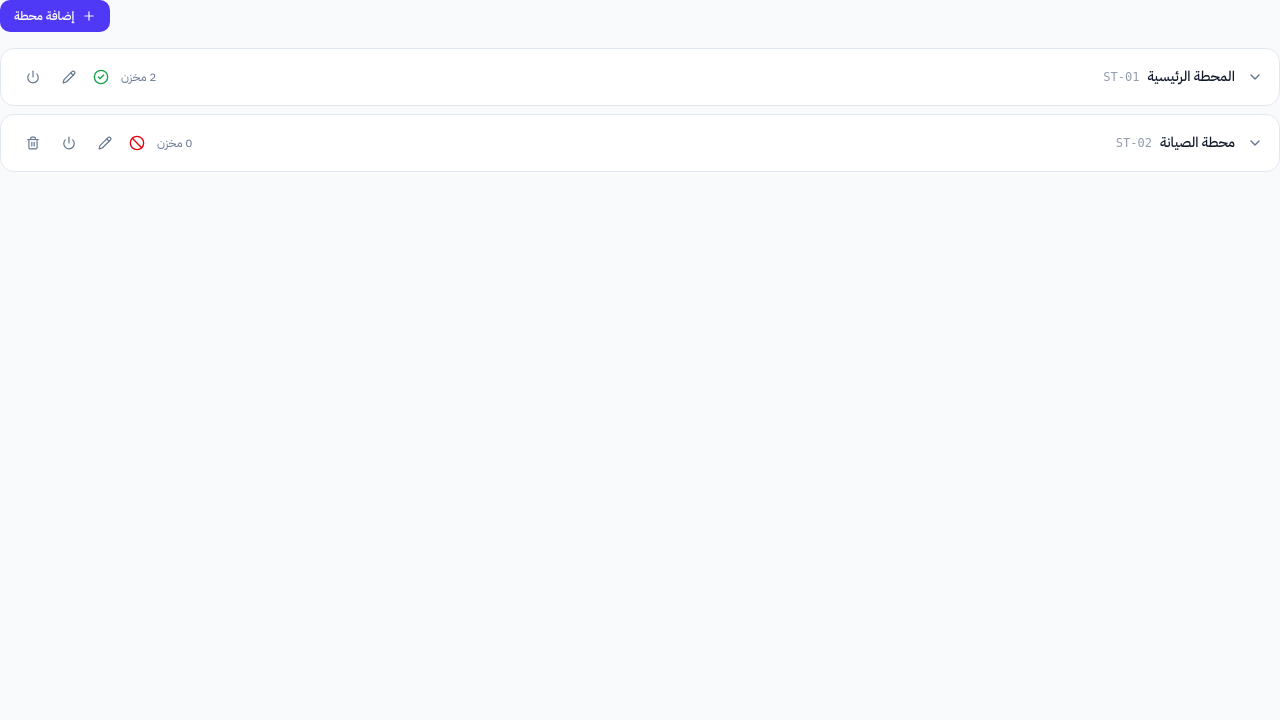
Test: StationsWarehouses — create › closes the dialog and reports success once the insert resolves
Click the button "إضافة محطة" at (55, 16), box x1=0 y1=0 x2=110 y2=32
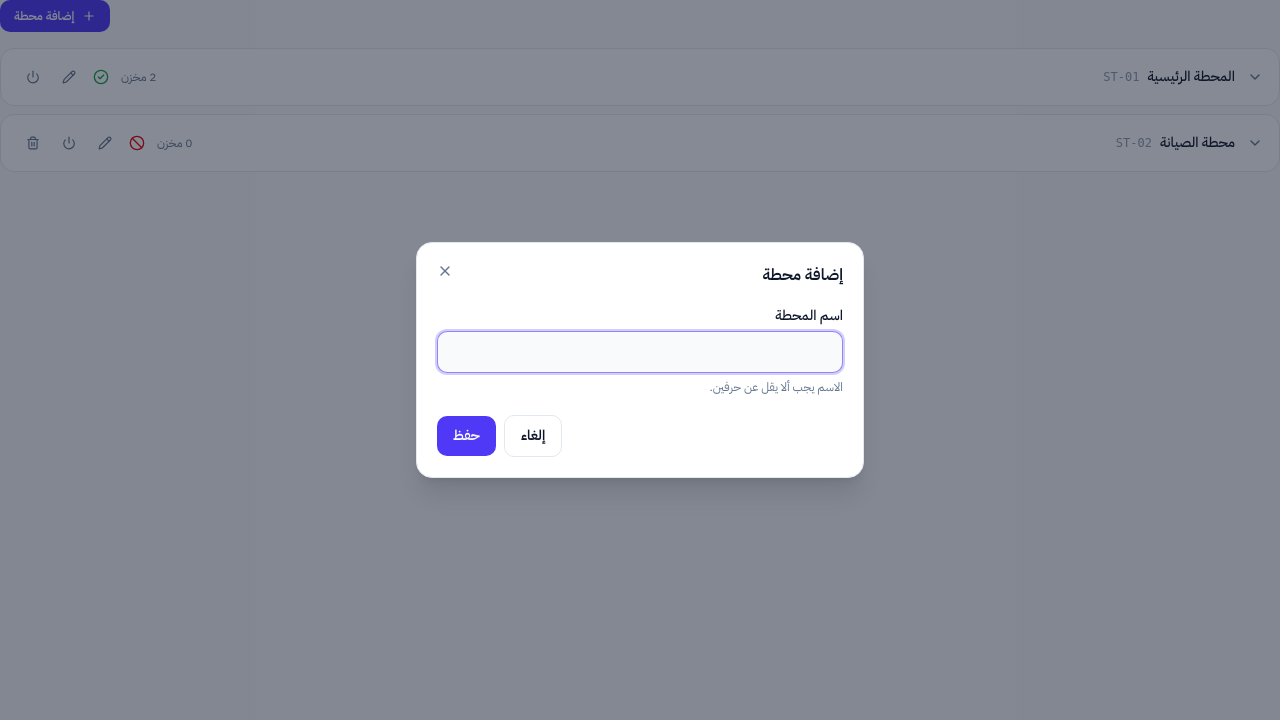
Type "محطة" into the field labelled "اسم المحطة" at (640, 352), box x1=437 y1=331 x2=843 y2=373
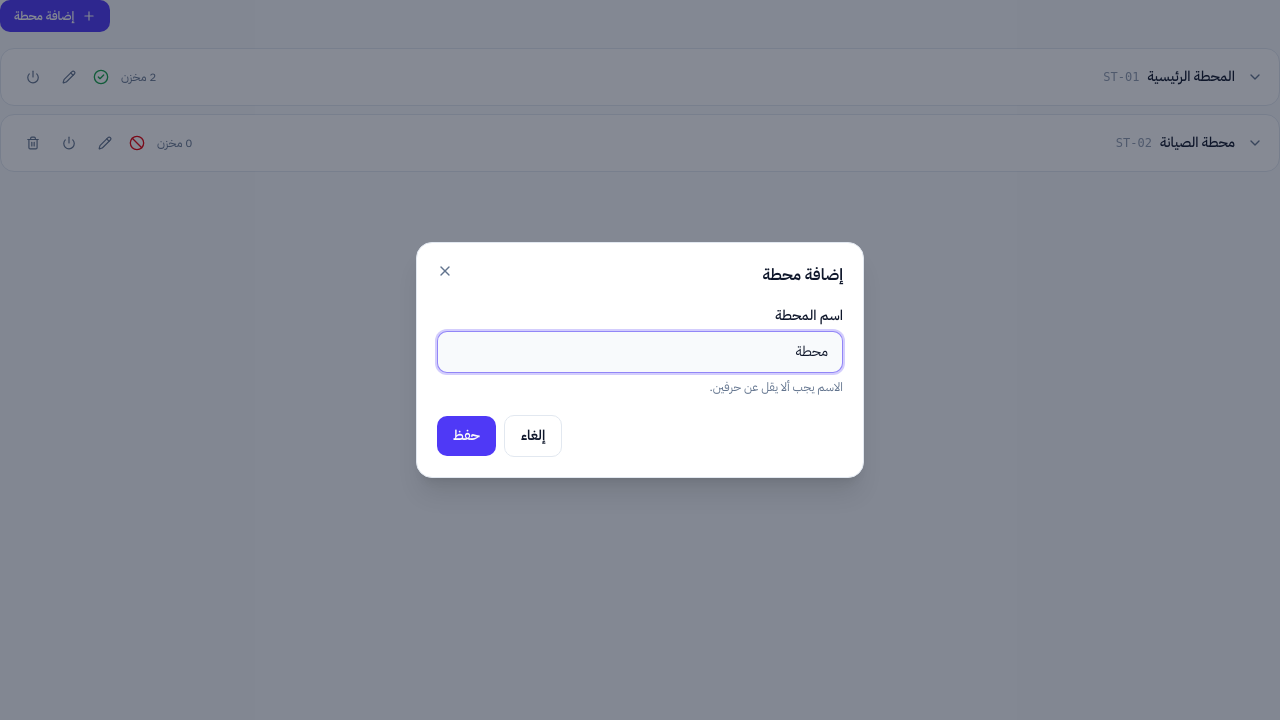
Click the button "حفظ" at (466, 436), box x1=437 y1=416 x2=496 y2=456
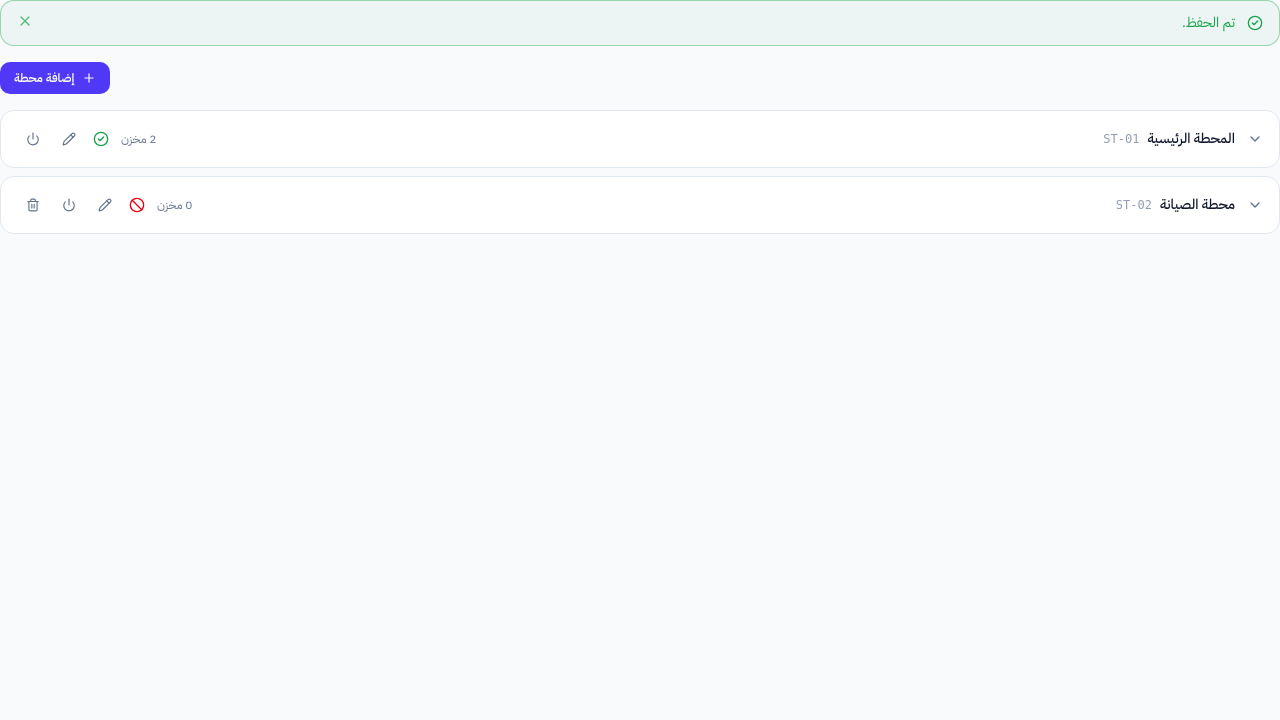
Result: the dialog is gone
Result: the message reads "تم الحفظ." at x1=1182 y1=12 x2=1235 y2=33
